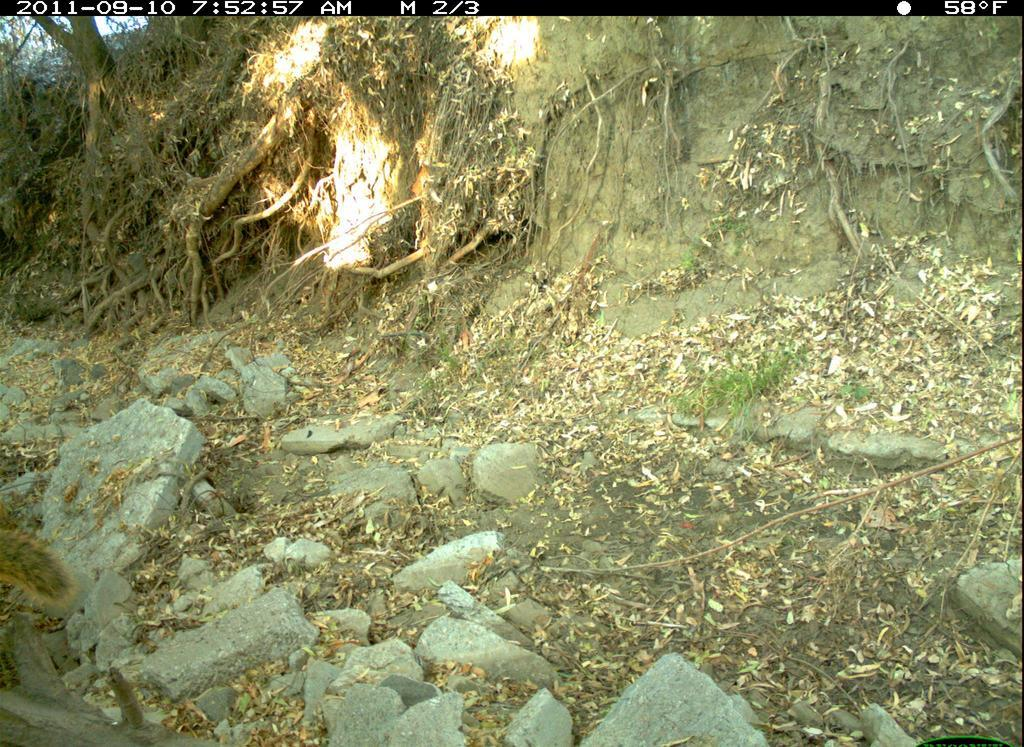squirrel: (1, 516, 86, 620)
